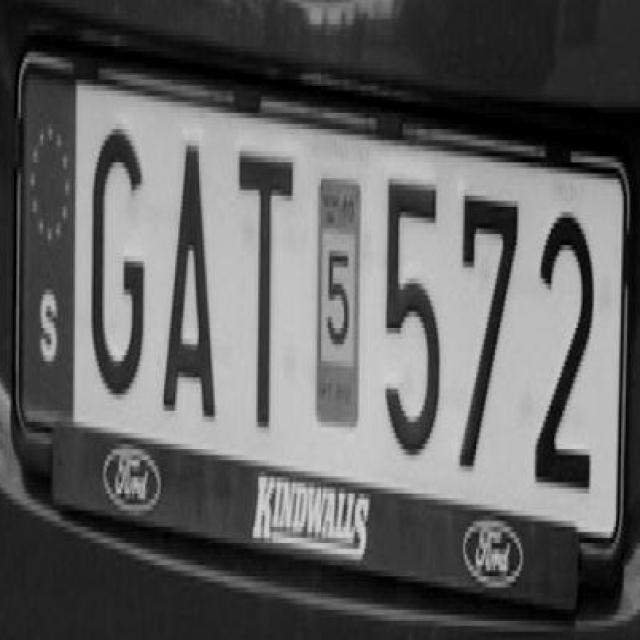licenseplate: (10, 5, 639, 625)
